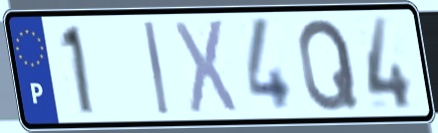1: (57, 22, 97, 117)
4: (362, 14, 418, 113), (245, 14, 295, 119)
I: (140, 19, 172, 118)
Q: (296, 15, 362, 114)
X: (171, 16, 240, 117)
